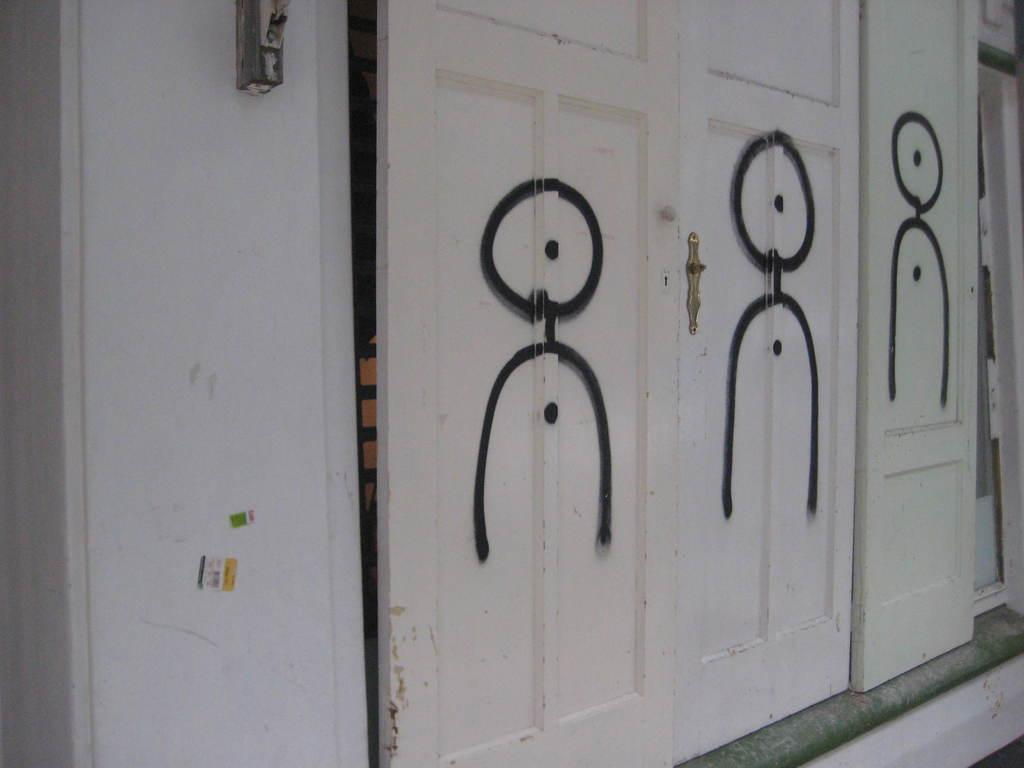handle: (683, 237, 703, 324)
